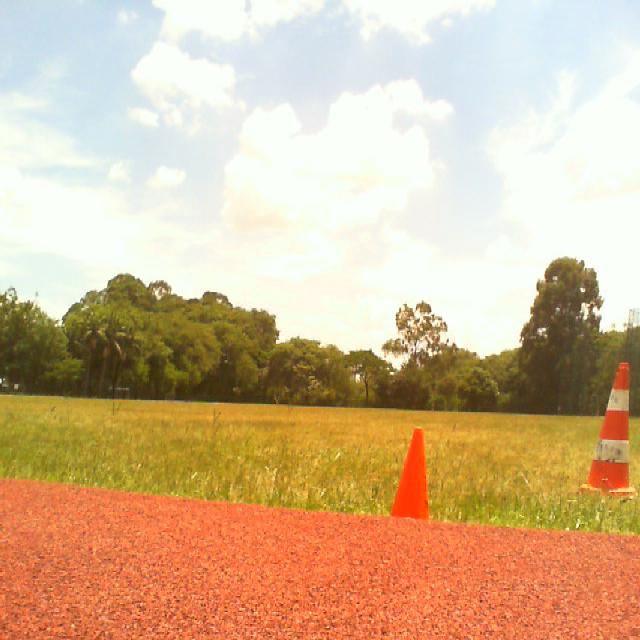cone: (580, 364, 639, 500), (392, 428, 429, 521)
